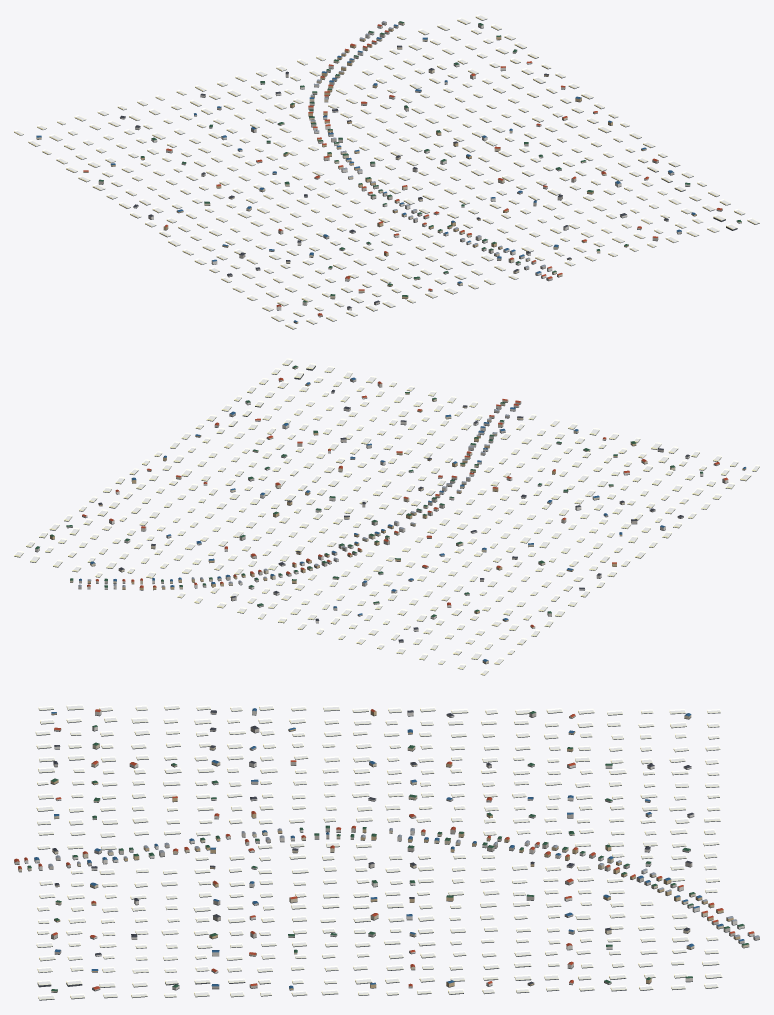
File: buildings_T_W02_N01.glb
The picture shows the model from 3 angles, top to bottom: view 1: azimuth 30°, elevation 25°; view 2: azimuth 150°, elevation 25°; view 3: azimuth 270°, elevation 25°; orthographic projection. The views are drawn at different scales.
Visible parts, largest first — view 1: T_W02_N01_roofs_agri_greenhouse_arch, T_W02_N01_slope_seating_foundations, T_W02_N01_walls_wall_pastel_sand_gray, T_W02_N01_walls_wall_modern_warm_white, T_W02_N01_walls_wall_french_ochre_villa, T_W02_N01_walls_wall_dalat_cream_stucco, T_W02_N01_roofs_roof_pine_green_hip, T_W02_N01_roofs_roof_terracotta_gable, T_W02_N01_roofs_roof_highland_blue_gable; view 2: T_W02_N01_roofs_agri_greenhouse_arch, T_W02_N01_slope_seating_foundations, T_W02_N01_walls_wall_pastel_sand_gray, T_W02_N01_walls_wall_modern_warm_white, T_W02_N01_walls_wall_french_ochre_villa, T_W02_N01_walls_wall_dalat_cream_stucco, T_W02_N01_roofs_roof_pine_green_hip, T_W02_N01_roofs_roof_terracotta_gable, T_W02_N01_roofs_roof_highland_blue_gable; view 3: T_W02_N01_roofs_agri_greenhouse_arch, T_W02_N01_slope_seating_foundations, T_W02_N01_walls_wall_pastel_sand_gray, T_W02_N01_walls_wall_modern_warm_white, T_W02_N01_walls_wall_french_ochre_villa, T_W02_N01_roofs_roof_pine_green_hip, T_W02_N01_walls_wall_dalat_cream_stucco, T_W02_N01_roofs_roof_terracotta_gable, T_W02_N01_roofs_roof_highland_blue_gable, T_W02_N01_roofs_roof_slate_French_villa_hip.
Part boxes in pixels (box(x1,y1,x2,y2)): T_W02_N01_roofs_agri_greenhouse_arch: box(14, 14, 759, 328); T_W02_N01_slope_seating_foundations: box(14, 16, 759, 329); T_W02_N01_walls_wall_pastel_sand_gray: box(98, 22, 722, 316); T_W02_N01_walls_wall_modern_warm_white: box(120, 24, 690, 310); T_W02_N01_walls_wall_french_ochre_villa: box(110, 28, 696, 323); T_W02_N01_walls_wall_dalat_cream_stucco: box(36, 22, 741, 298); T_W02_N01_roofs_roof_pine_green_hip: box(99, 21, 741, 302); T_W02_N01_roofs_roof_terracotta_gable: box(83, 24, 722, 315); T_W02_N01_roofs_roof_highland_blue_gable: box(36, 24, 696, 322); T_W02_N01_roofs_agri_greenhouse_arch: box(14, 358, 759, 674); T_W02_N01_slope_seating_foundations: box(14, 360, 759, 675); T_W02_N01_walls_wall_pastel_sand_gray: box(66, 379, 719, 616); T_W02_N01_walls_wall_modern_warm_white: box(35, 391, 728, 642); T_W02_N01_walls_wall_french_ochre_villa: box(50, 383, 746, 621); T_W02_N01_walls_wall_dalat_cream_stucco: box(70, 367, 675, 663); T_W02_N01_roofs_roof_pine_green_hip: box(35, 365, 702, 616); T_W02_N01_roofs_roof_terracotta_gable: box(82, 377, 728, 627); T_W02_N01_roofs_roof_highland_blue_gable: box(79, 377, 746, 661); T_W02_N01_roofs_agri_greenhouse_arch: box(35, 704, 722, 999); T_W02_N01_slope_seating_foundations: box(14, 706, 759, 1000); T_W02_N01_walls_wall_pastel_sand_gray: box(14, 712, 759, 990); T_W02_N01_walls_wall_modern_warm_white: box(24, 710, 754, 989); T_W02_N01_walls_wall_french_ochre_villa: box(50, 711, 740, 989); T_W02_N01_roofs_roof_pine_green_hip: box(27, 711, 748, 991); T_W02_N01_walls_wall_dalat_cream_stucco: box(18, 715, 749, 992); T_W02_N01_roofs_roof_terracotta_gable: box(14, 709, 754, 989); T_W02_N01_roofs_roof_highland_blue_gable: box(34, 708, 744, 988); T_W02_N01_roofs_roof_slate_French_villa_hip: box(52, 710, 693, 984).
Bounding box in the file's own units: 1739 × 43.79 × 1926.
